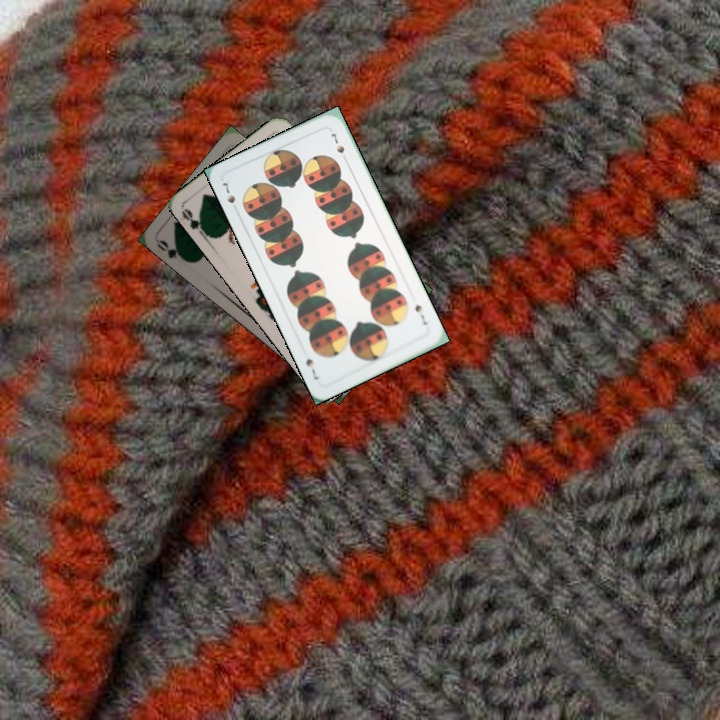GO: (178, 205, 212, 241), (153, 236, 190, 265)
S7: (218, 178, 241, 215), (411, 300, 430, 327)
